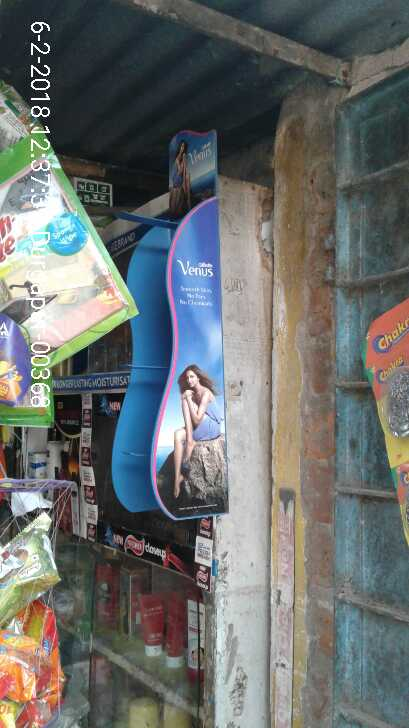reject: (135, 210, 331, 435)
